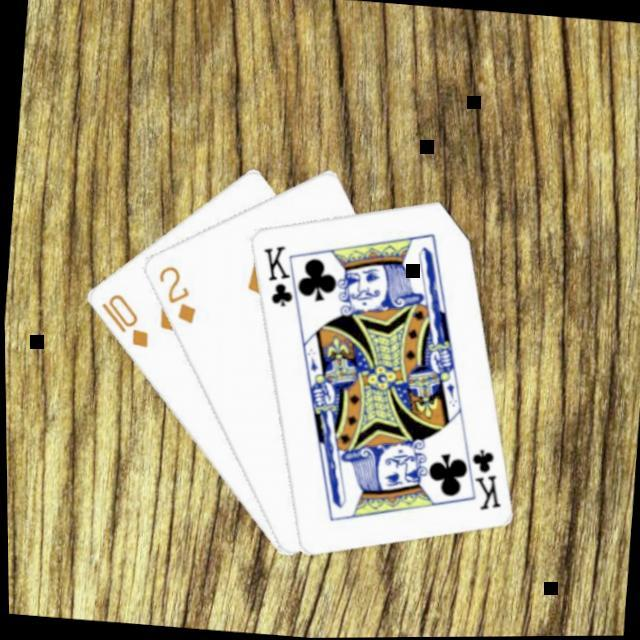10D: (93, 289, 155, 353)
2D: (150, 261, 202, 327)
KC: (453, 440, 508, 515), (254, 240, 309, 314)
